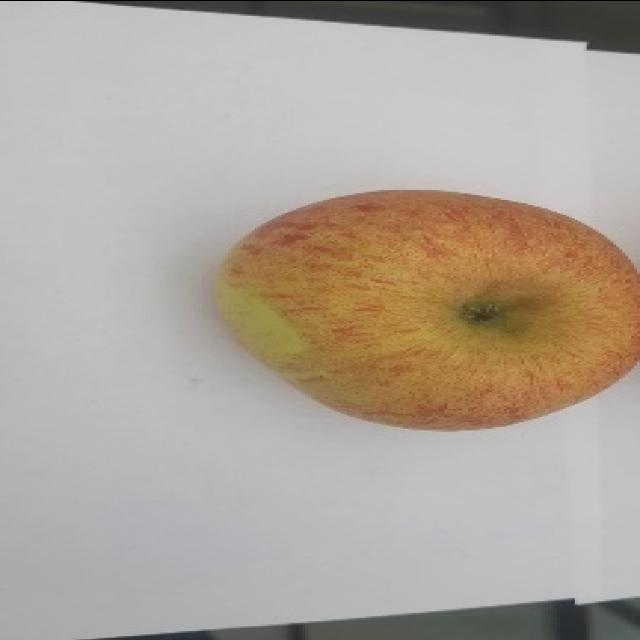Apple: (210, 189, 640, 437)
